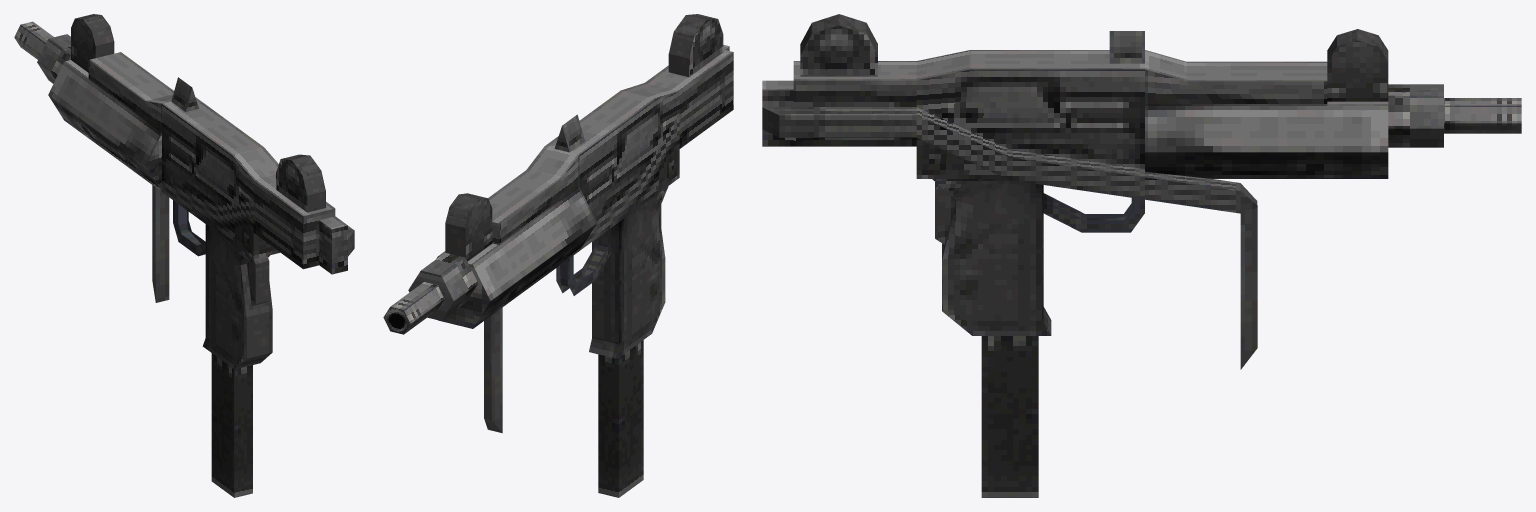
File: recovered_gun_uzi_b665d0f2.glb
The picture shows the model from 3 angles, left to right: view 1: azimuth 30°, elevation 25°; view 2: azimuth 150°, elevation 25°; view 3: azimuth 270°, elevation 25°; orthographic projection. The views are drawn at different scales.
Visible parts, largest first — view 1: Gun_1f5a2b896af9; view 2: Gun_1f5a2b896af9, Gun_379f7b5fa02f; view 3: Gun_1f5a2b896af9.
Part boxes in pixels (left/top/right/bottom): Gun_1f5a2b896af9: left=14, top=14, right=354, bottom=497; Gun_1f5a2b896af9: left=390, top=14, right=733, bottom=497; Gun_379f7b5fa02f: left=383, top=307, right=410, bottom=334; Gun_1f5a2b896af9: left=762, top=14, right=1521, bottom=497.
Size of the model in its own units: 0.0686 by 0.3866 by 0.5631.
Materials: 2 (2 with a texture image).
